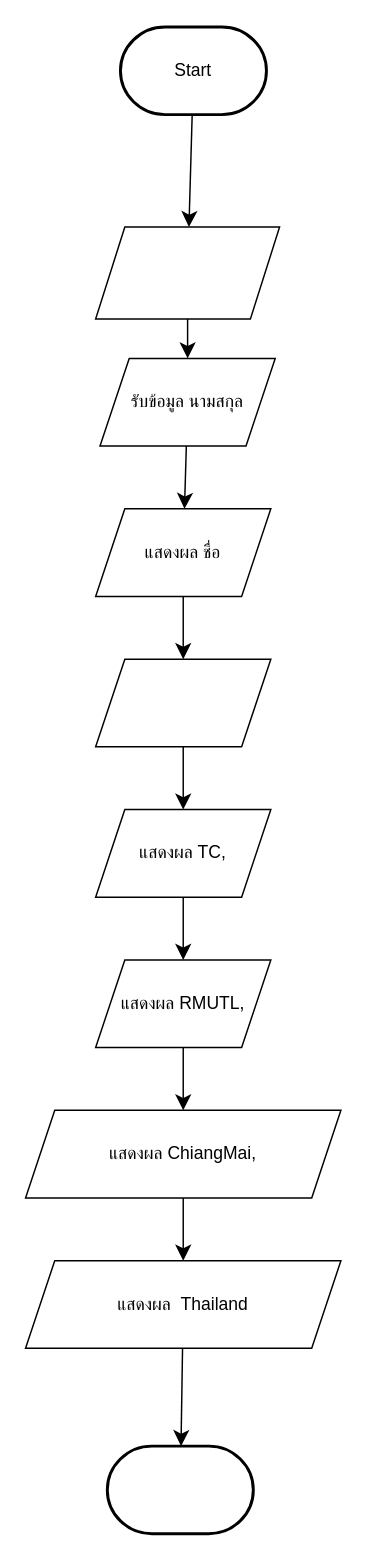
Image size: 366x1559. Some labels were removed from this diagram. Each missing label, with the centre of its shape:
End: point (179, 1489)
รับข้อมูล ชื่อ: point (187, 272)
แสดงผล นามสกุล: point (182, 702)
